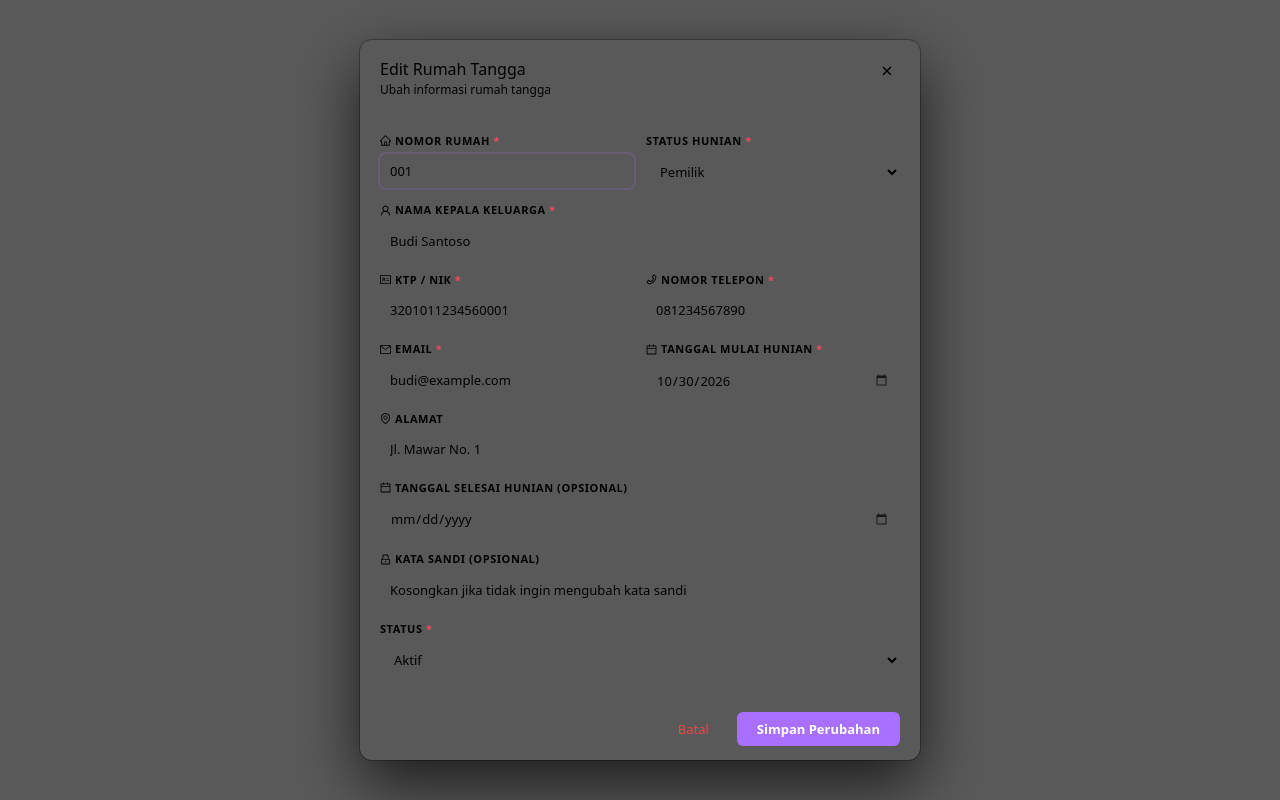
Test: W4.3 — HouseholdEdit form rendering › rejects malformed NIK (non-16 digits) on edit
Replace the text in the field labelled "KTP / NIK *" with "12345" at (507, 310), box left=380, top=293, right=634, bottom=327
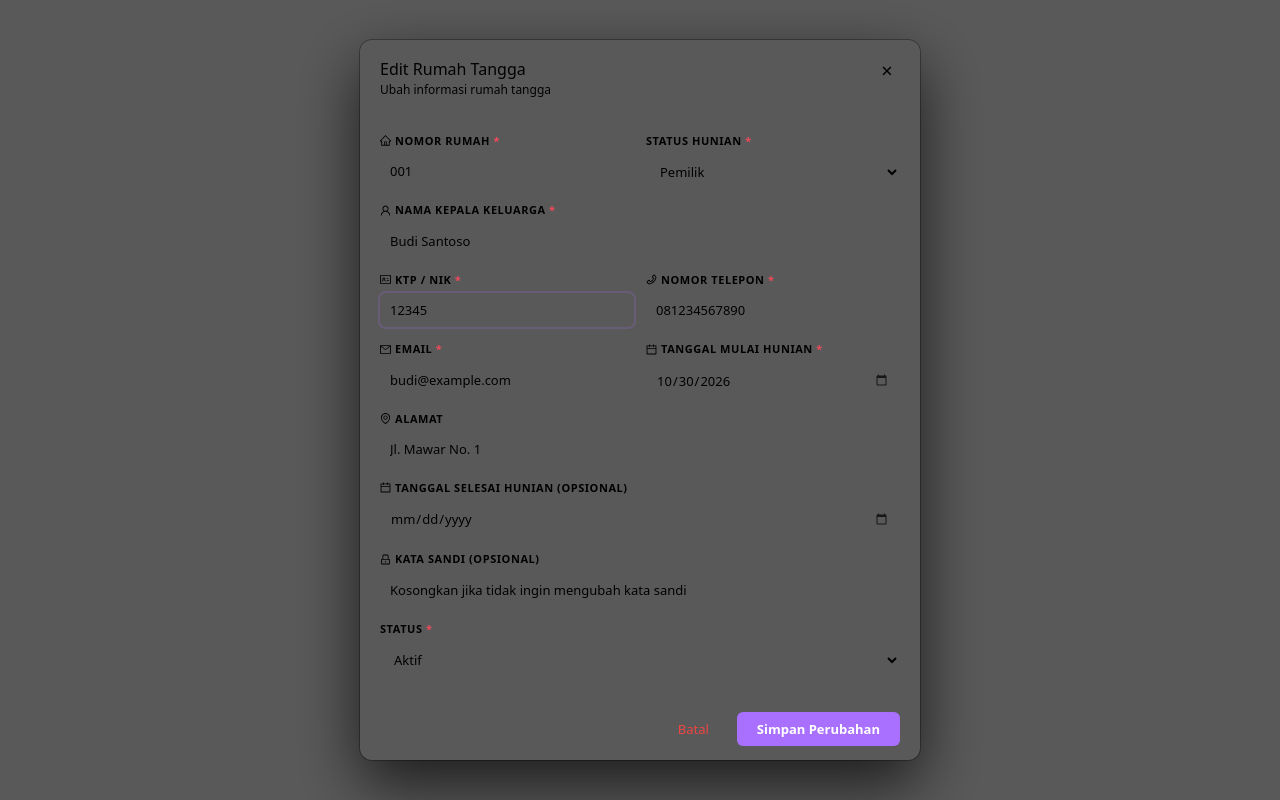
Submit the form, box left=360, top=113, right=920, bottom=760
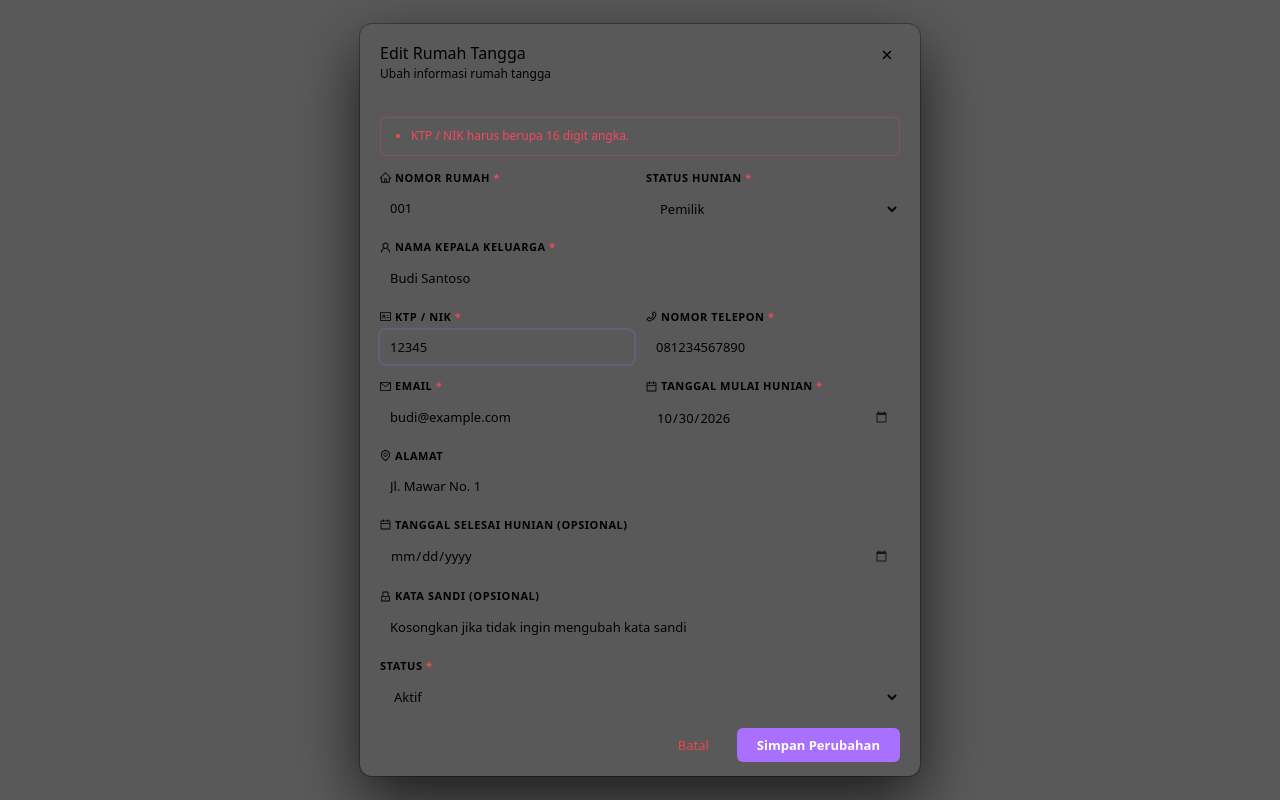
Now the list item "KTP / NIK harus berupa 16 digit angka." is shown, box left=411, top=127, right=629, bottom=144
